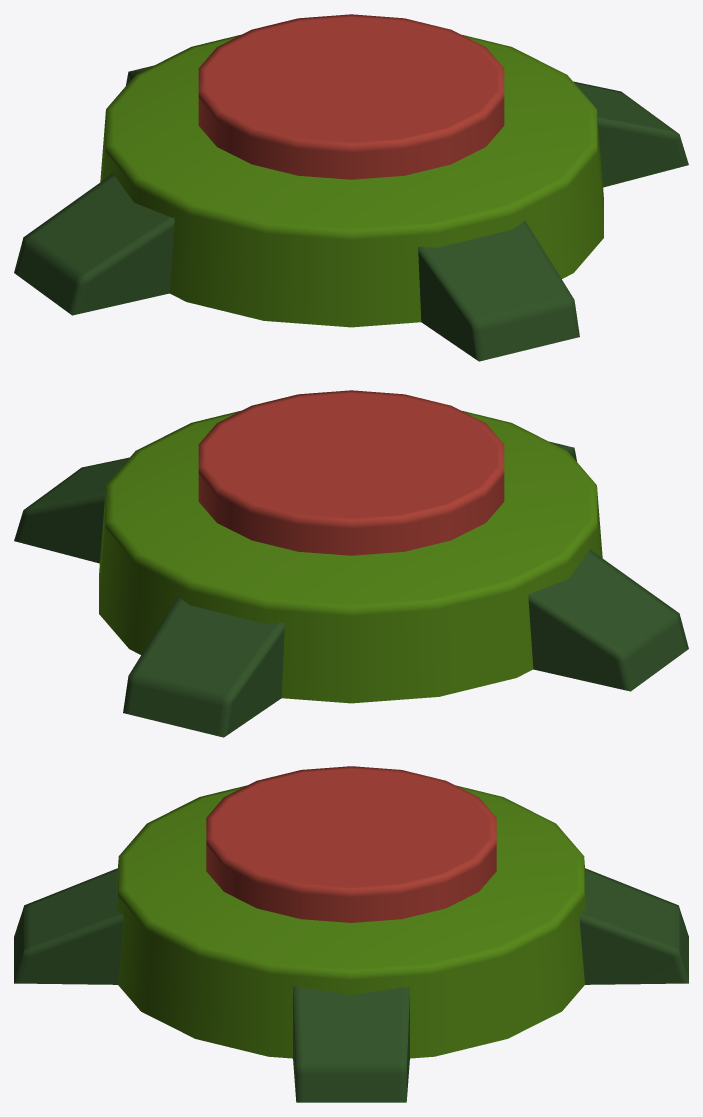
The model's file is Mine.fbx.
3 views of the same model, one above another, from view 1: azimuth 30°, elevation 25°; view 2: azimuth 150°, elevation 25°; view 3: azimuth 270°, elevation 25° (orthographic). The views are drawn at different scales.
Parts seen in each view (by area): view 1: Cylinder001; view 2: Cylinder001; view 3: Cylinder001.
Boxes of the visible parts, left/top/right/bottom form: Cylinder001: left=14, top=14, right=688, bottom=361; Cylinder001: left=14, top=390, right=688, bottom=737; Cylinder001: left=14, top=766, right=688, bottom=1102.
Size of the model in its own units: 139 by 29.9 by 139.
Materials: 1 (1 with a texture image).
